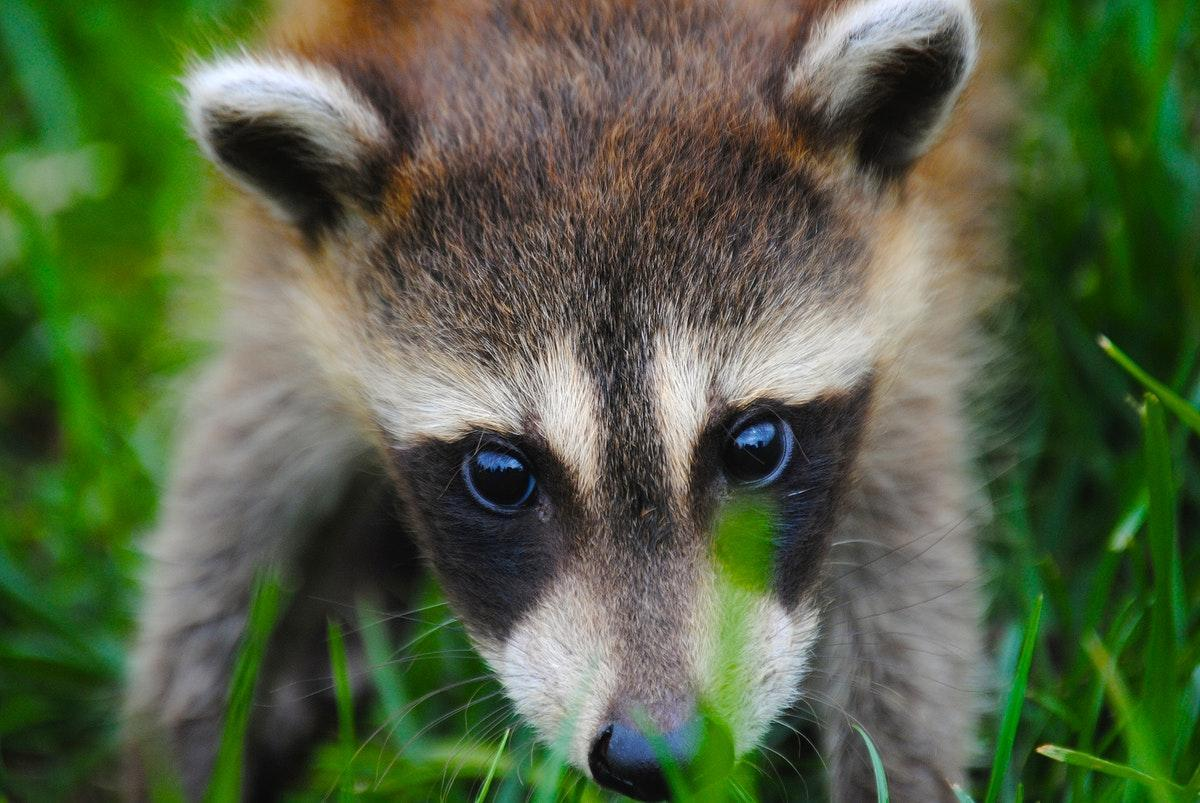raccoon: (122, 0, 1009, 803)
